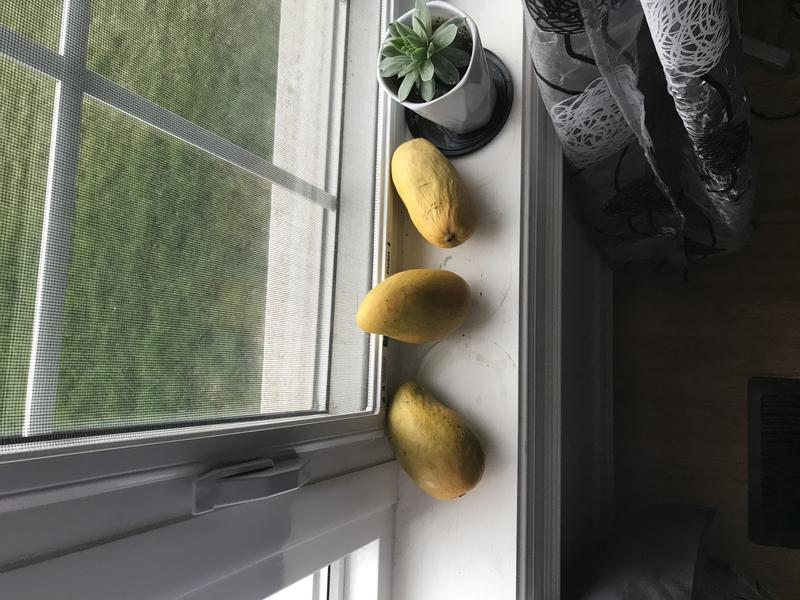mango: (379, 375, 493, 507), (380, 131, 475, 254), (350, 263, 480, 350)
